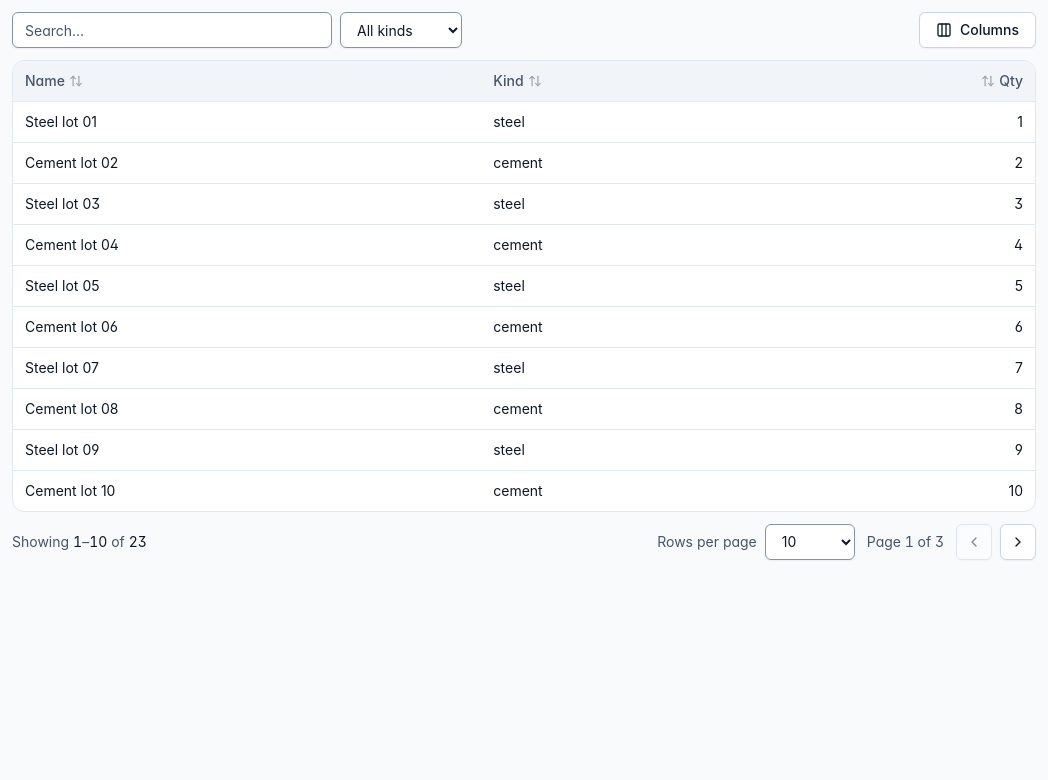
Test: DataTable › searches every word, across columns, and resets to page 1
The width and height of the screenshot is (1048, 780).
Click the button named "Next page" at (1018, 542), box [1000, 524, 1036, 560]
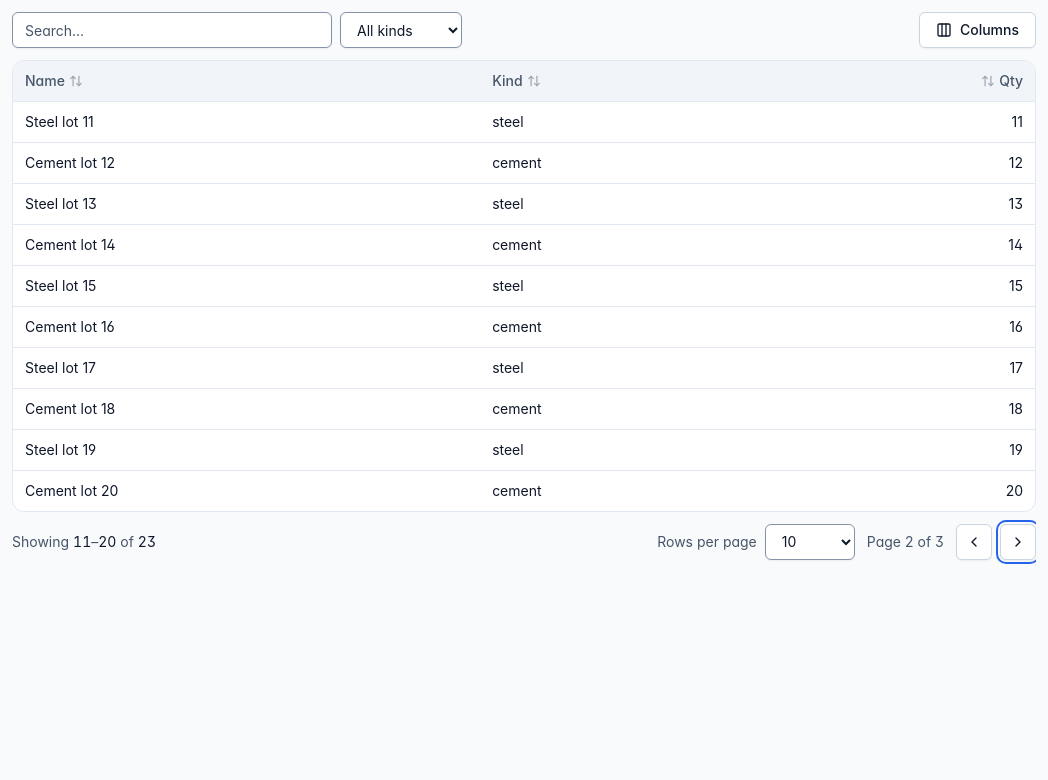
// "cement" matches the name/kind, "2" matches the lot number: cement lots 02, 12, 20, 22.
Type "Cement 2" into the search field named "Search items" at (172, 30), box [12, 12, 332, 48]
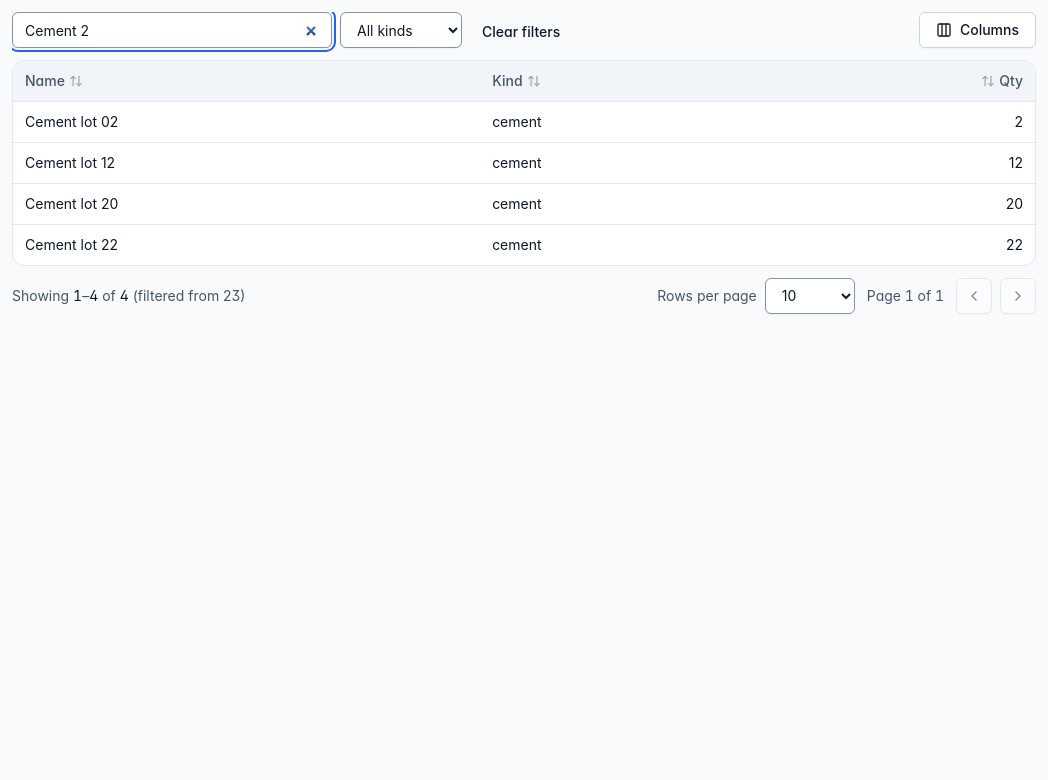
Now the text "Showing 1–4 of 4 (filtered from 23)" is shown, box [12, 286, 245, 306]
